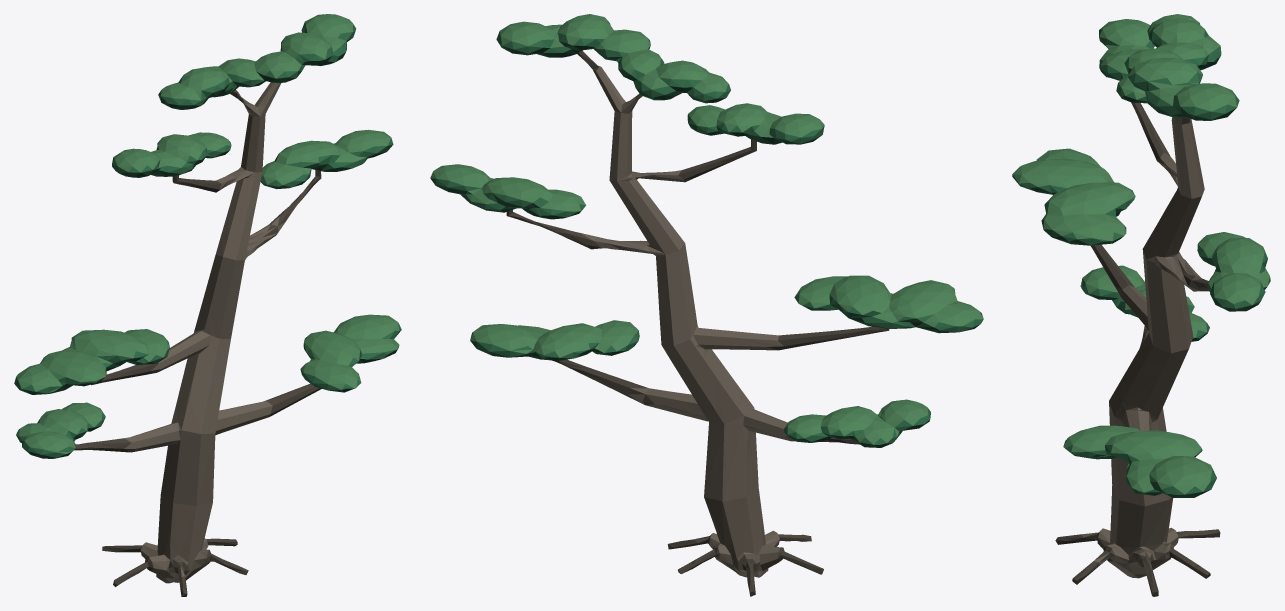
The model's file is ancient-pine-4119-lod0.glb.
3 renders of one model, left to right at view 1: azimuth 30°, elevation 25°; view 2: azimuth 150°, elevation 25°; view 3: azimuth 270°, elevation 25°, orthographic. The views are drawn at different scales.
Parts seen in each view (by area): view 1: n12.004, n8.004, n11.004, n9.004, n10.004; view 2: n12.004, n8.004, n11.004, n9.004, n10.004; view 3: n12.004, n8.004, n11.004, n9.004, n10.004.
Boxes of the visible parts, <box> form: n12.004: <box>16,14,399,453</box>; n8.004: <box>124,82,285,583</box>; n11.004: <box>14,22,401,457</box>; n9.004: <box>74,90,321,596</box>; n10.004: <box>19,38,401,458</box>; n12.004: <box>430,14,983,444</box>; n8.004: <box>581,67,794,577</box>; n11.004: <box>430,18,983,444</box>; n9.004: <box>506,50,889,596</box>; n10.004: <box>431,40,980,447</box>; n12.004: <box>1012,14,1269,494</box>; n8.004: <box>1082,117,1204,578</box>; n11.004: <box>1012,23,1270,494</box>; n9.004: <box>1055,102,1220,596</box>; n10.004: <box>1013,37,1266,497</box>.
Bounding box in the file's own units: 5.08 × 5.45 × 2.14.
